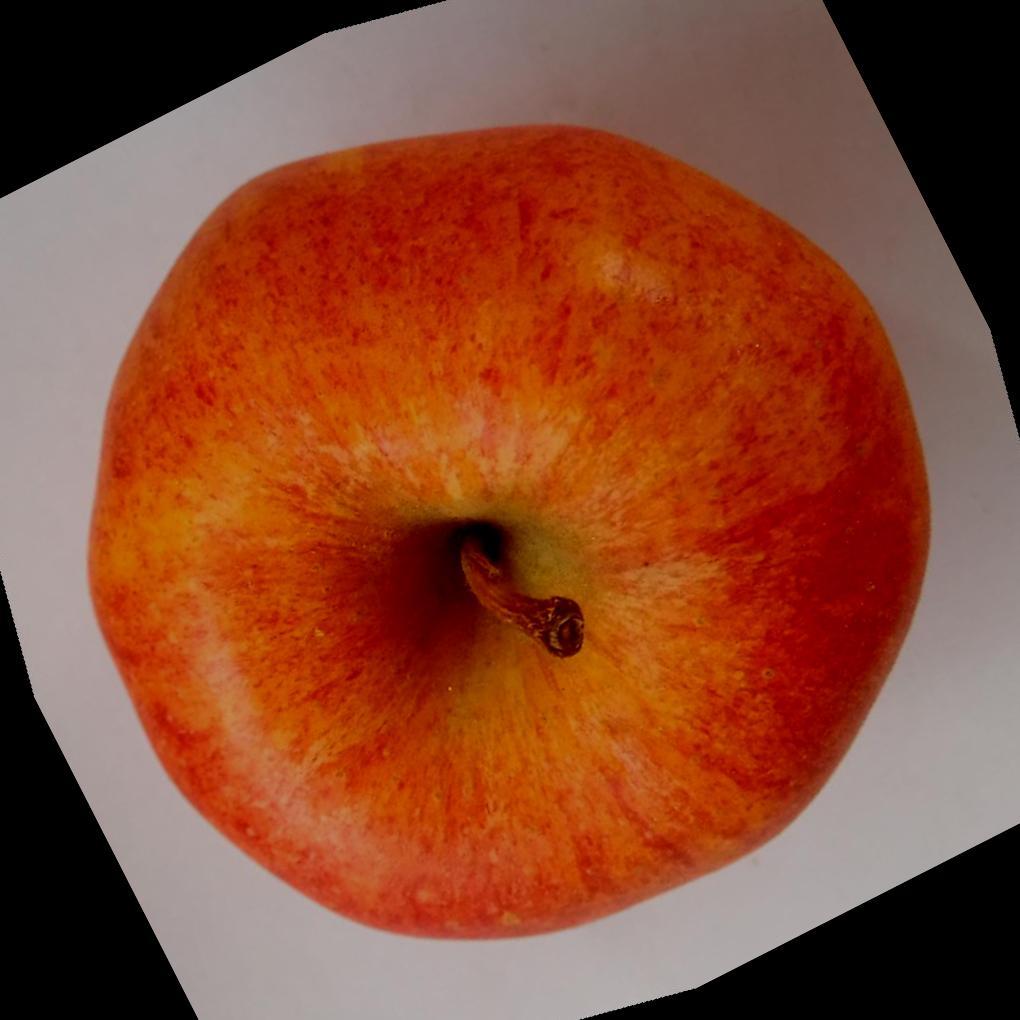FreshGuava: (80, 121, 930, 944)
